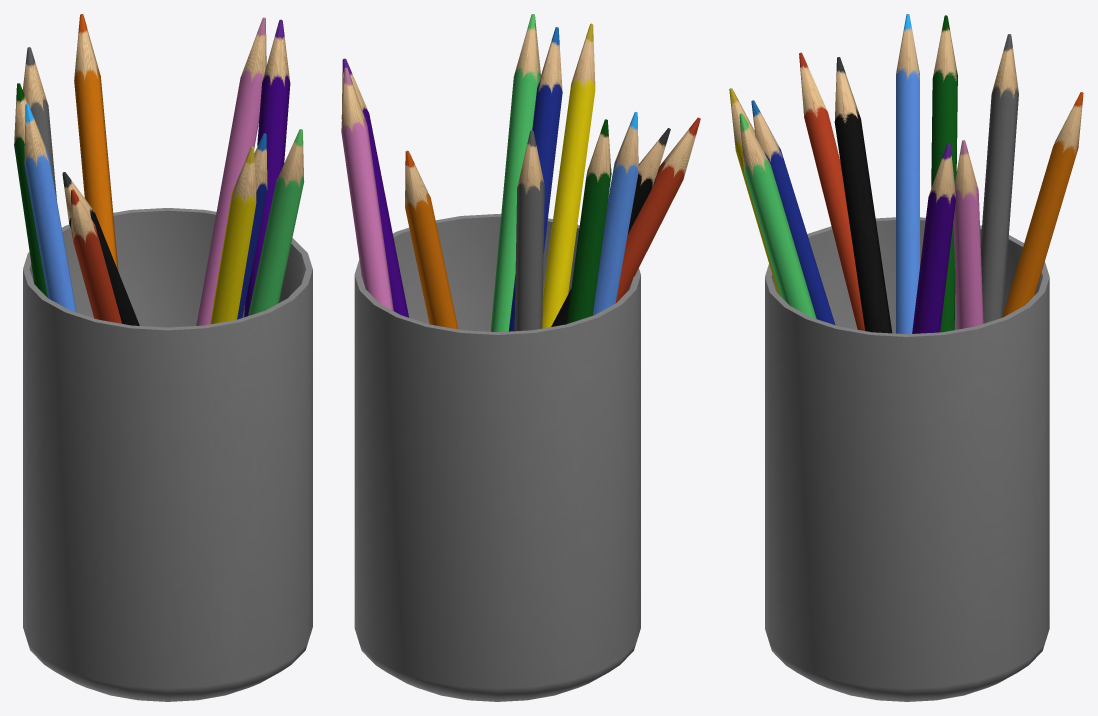
The model's file is prop_pencil_cup.glb.
3 renders of one model, left to right at view 1: azimuth 30°, elevation 25°; view 2: azimuth 150°, elevation 25°; view 3: azimuth 270°, elevation 25°, orthographic.
Visible parts, largest first — view 1: Cup_Cup_0; view 2: Cup_Cup_0; view 3: Cup_Cup_0.
Boxes of the visible parts, x1,y1,x2,y2 form: Cup_Cup_0: (14, 14, 312, 701); Cup_Cup_0: (341, 14, 700, 701); Cup_Cup_0: (729, 14, 1083, 701).
Bounding box in the file's own units: 0.0861 × 0.1692 × 0.0933.
12 materials, 12 textured.
